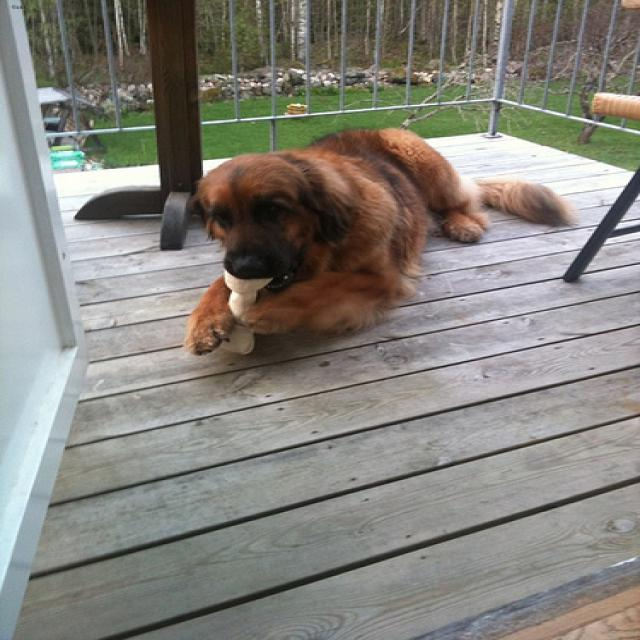dog-leonberger: (174, 118, 589, 361)
